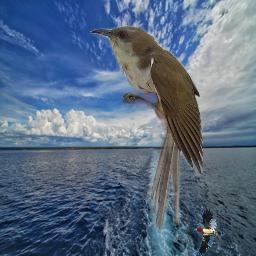Cuckoo: (90, 24, 203, 229)
Woodpecker: (194, 207, 225, 255)
